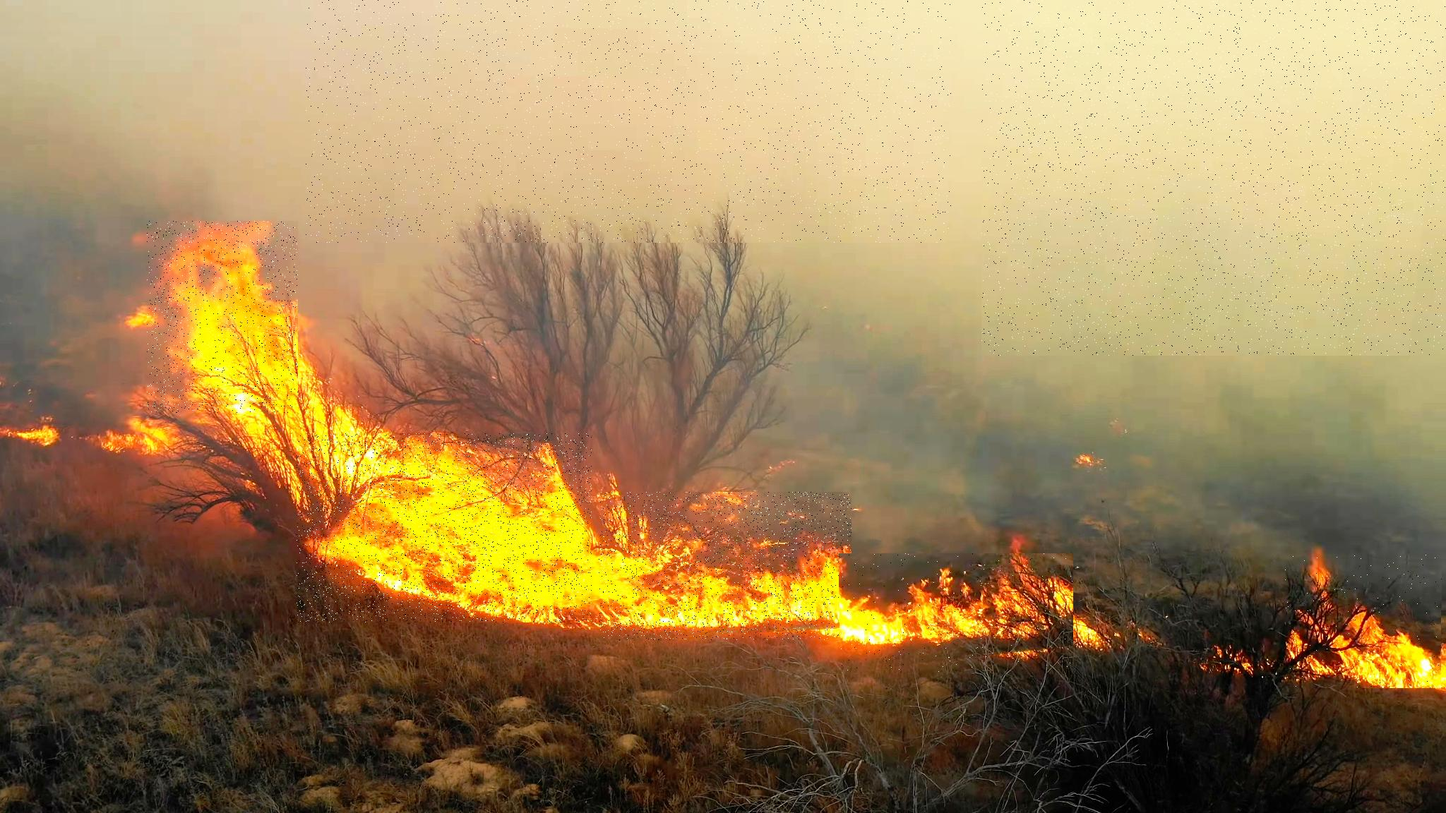fire: (297, 433, 592, 622), (599, 492, 851, 640), (147, 221, 298, 413), (839, 553, 1073, 672), (1285, 554, 1442, 688)
smoke: (981, 0, 1446, 356), (306, 0, 951, 243)
